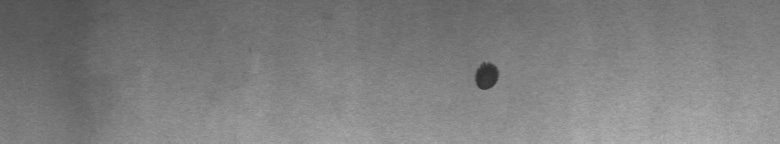fi: (468, 56, 505, 96)
